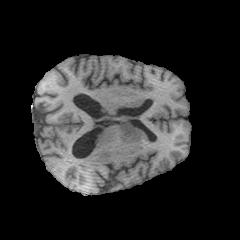glioma: (77, 114, 142, 172)
